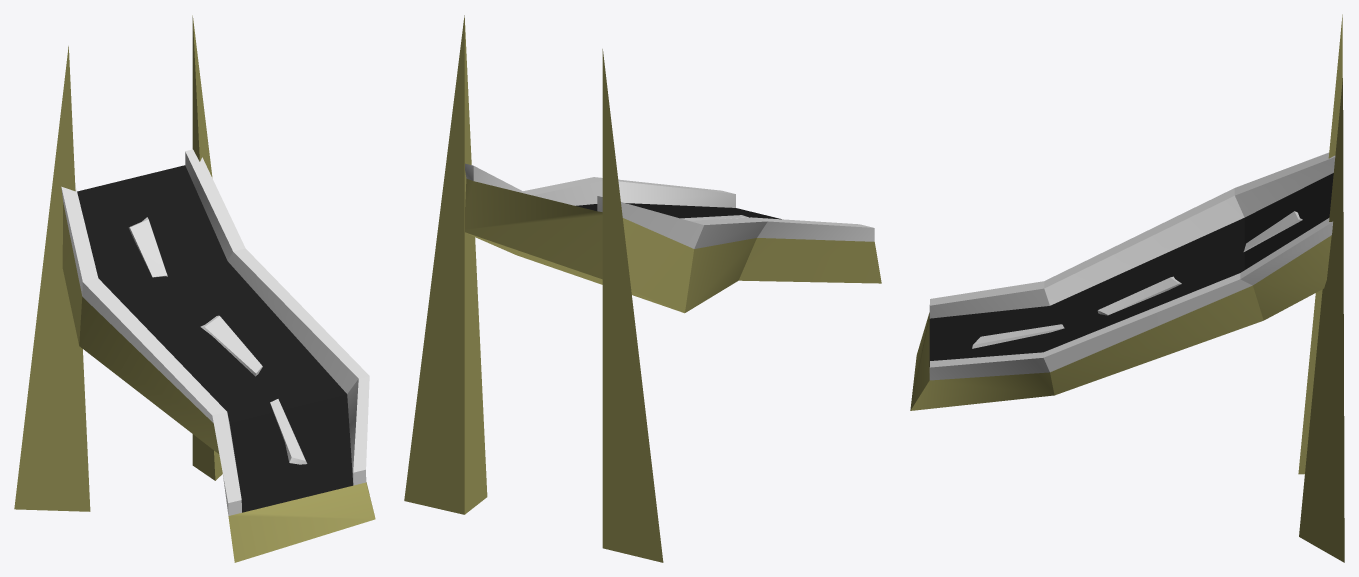
Rendered from c_bridge_ramp_aa.fbx.
3 views of the same model, side by side, from view 1: azimuth 30°, elevation 25°; view 2: azimuth 150°, elevation 25°; view 3: azimuth 270°, elevation 25° (orthographic). The views are drawn at different scales.
Visible parts, largest first — view 1: c_bridge_ramp_aa; view 2: c_bridge_ramp_aa; view 3: c_bridge_ramp_aa.
Boxes of the visible parts, bbox=[...] form: c_bridge_ramp_aa: bbox=[14, 15, 375, 562]; c_bridge_ramp_aa: bbox=[404, 15, 881, 562]; c_bridge_ramp_aa: bbox=[910, 14, 1344, 562].
Size of the model in its own units: 6.2 by 11.51 by 9.84.
